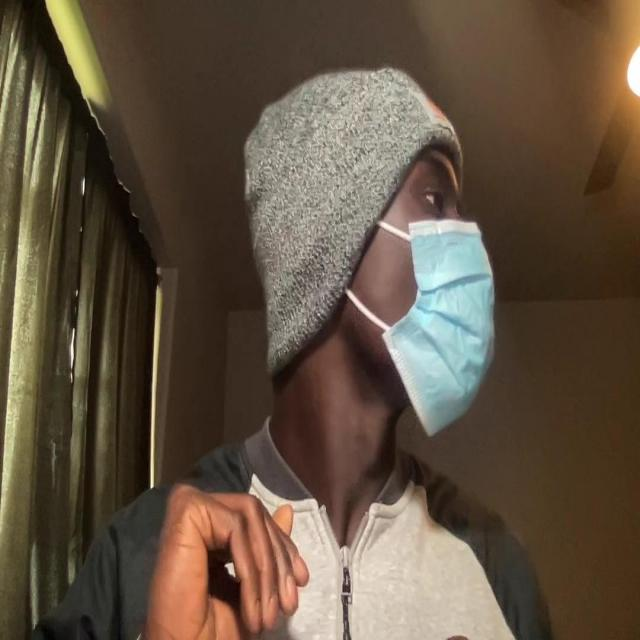face: (328, 121, 497, 440)
